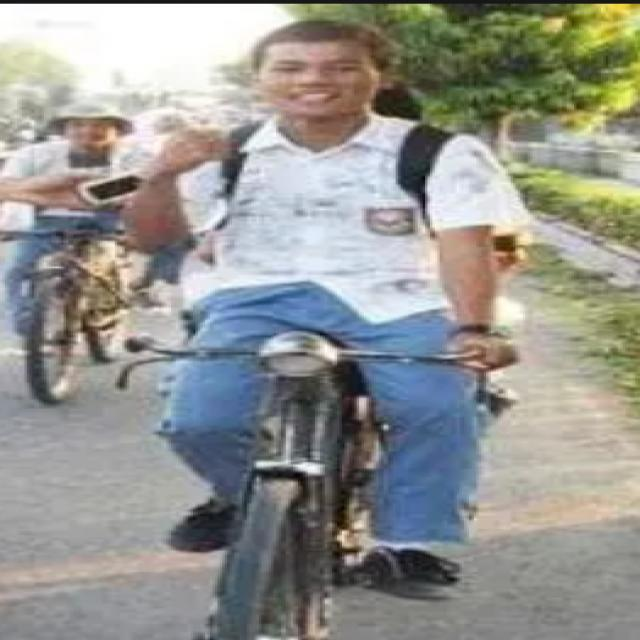car: (92, 321, 540, 640), (0, 214, 182, 410)
